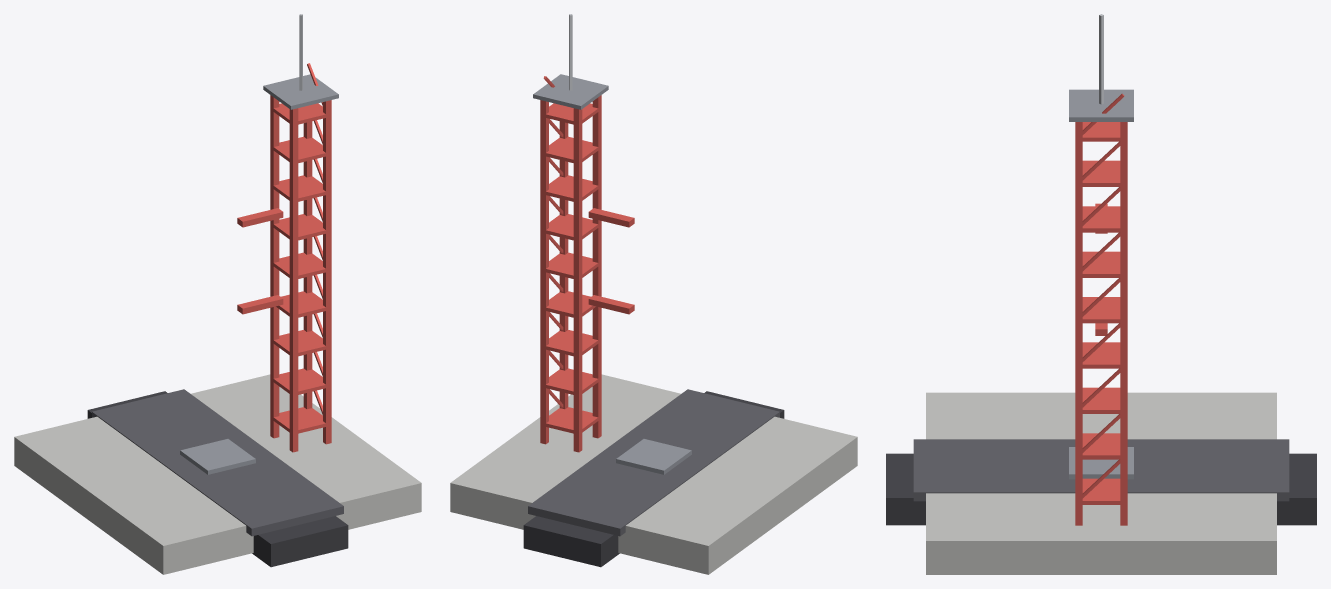
Rendered from launch_pad.glb.
3 views of the same model, side by side, from view 1: azimuth 30°, elevation 25°; view 2: azimuth 150°, elevation 25°; view 3: azimuth 270°, elevation 25° (orthographic). The views are drawn at different scales.
Visible parts, largest first — view 1: launch_pad; view 2: launch_pad; view 3: launch_pad.
Boxes of the visible parts, <box> form: launch_pad: <box>14,14,421,574</box>; launch_pad: <box>450,14,857,574</box>; launch_pad: <box>886,14,1316,574</box>.
Bounding box in the file's own units: 14 × 23.6 × 17.2.
